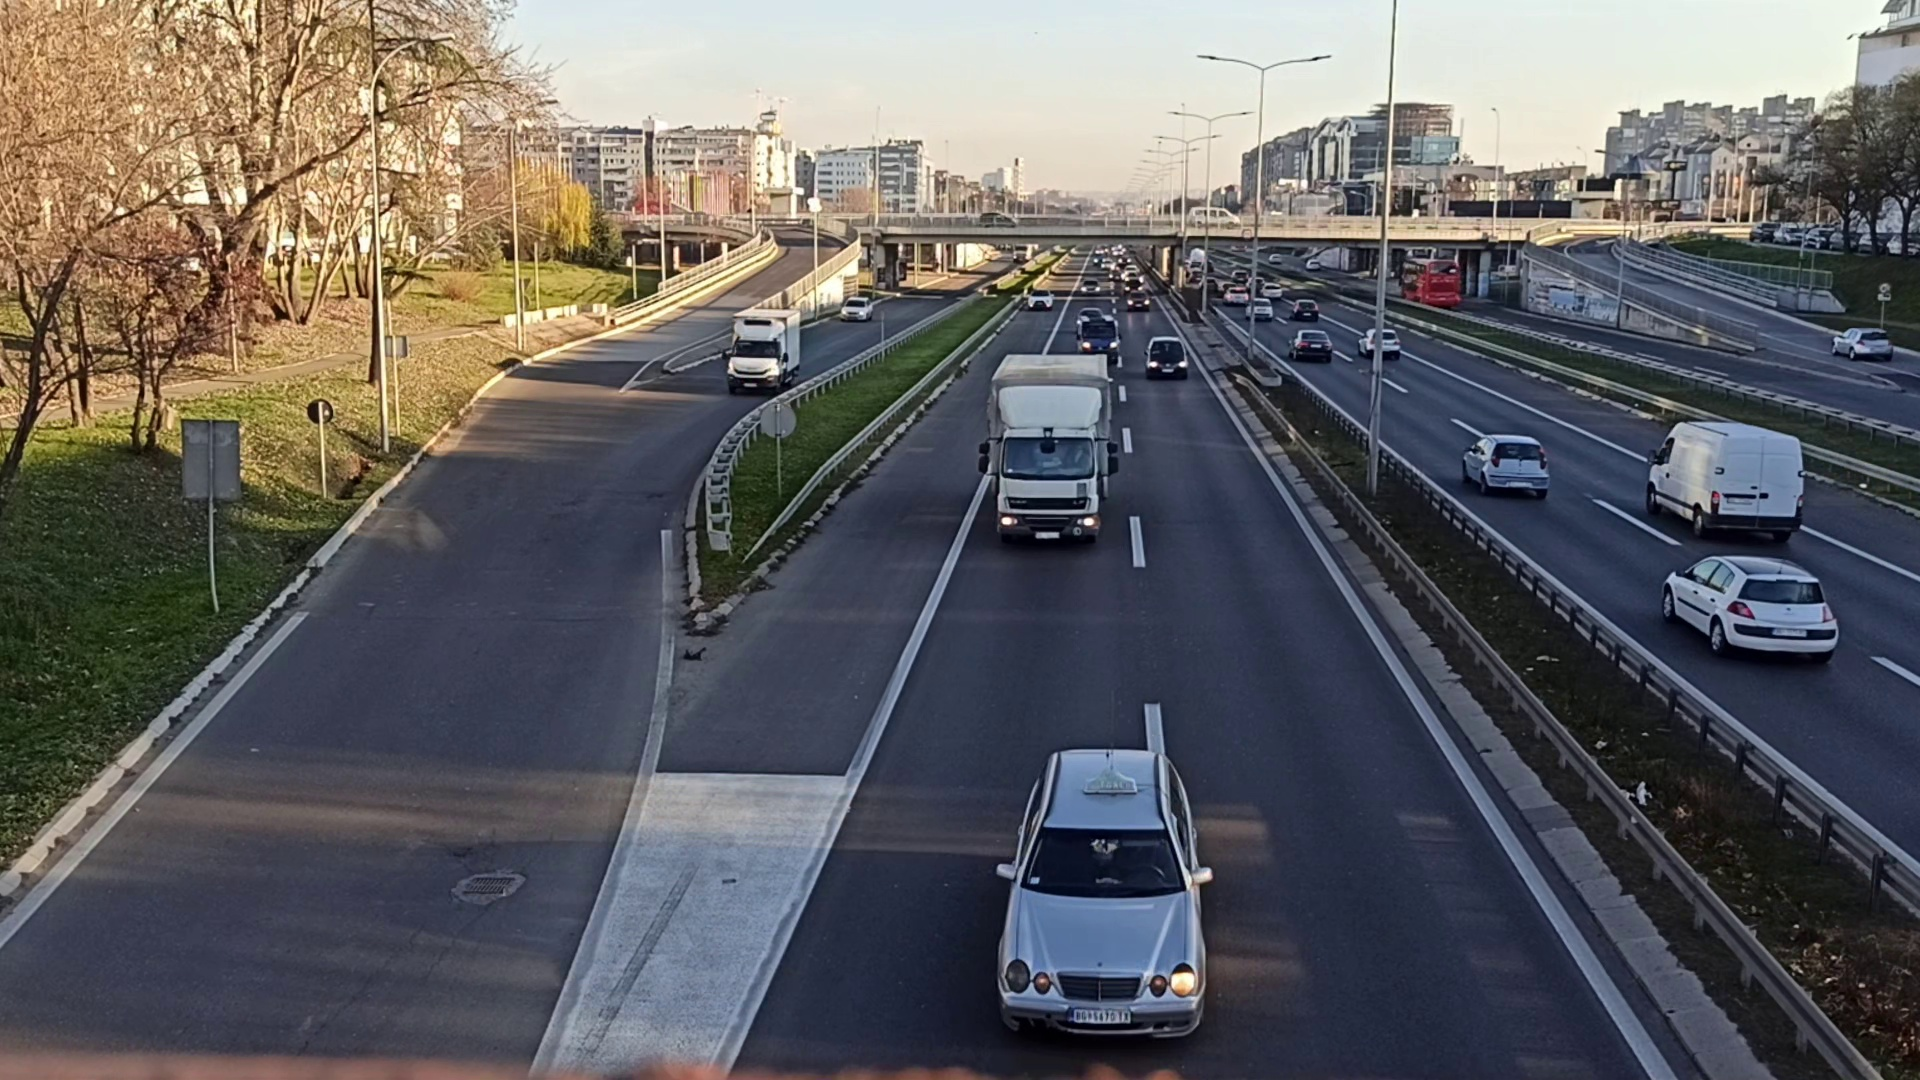car: (996, 745, 1208, 1047), (1662, 550, 1840, 663), (1461, 434, 1553, 504), (1145, 335, 1185, 377), (839, 295, 872, 320)
truck: (986, 353, 1112, 549)
van: (1644, 414, 1809, 545), (727, 309, 800, 390)
